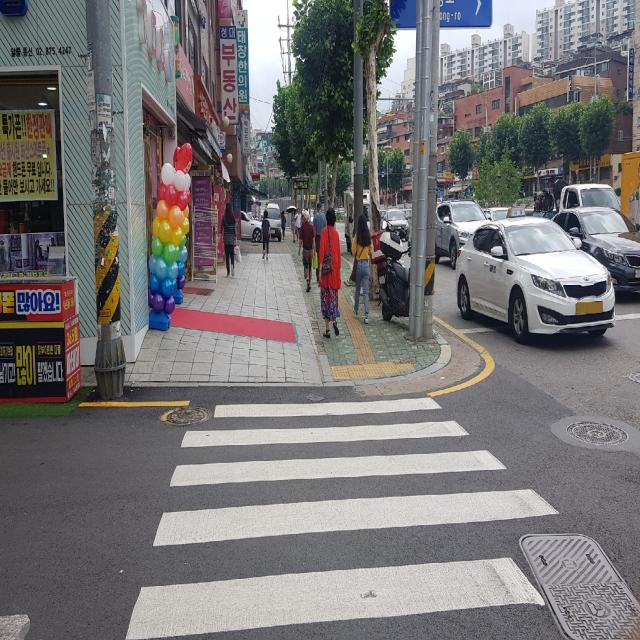횡단보도: (120, 392, 561, 640)
